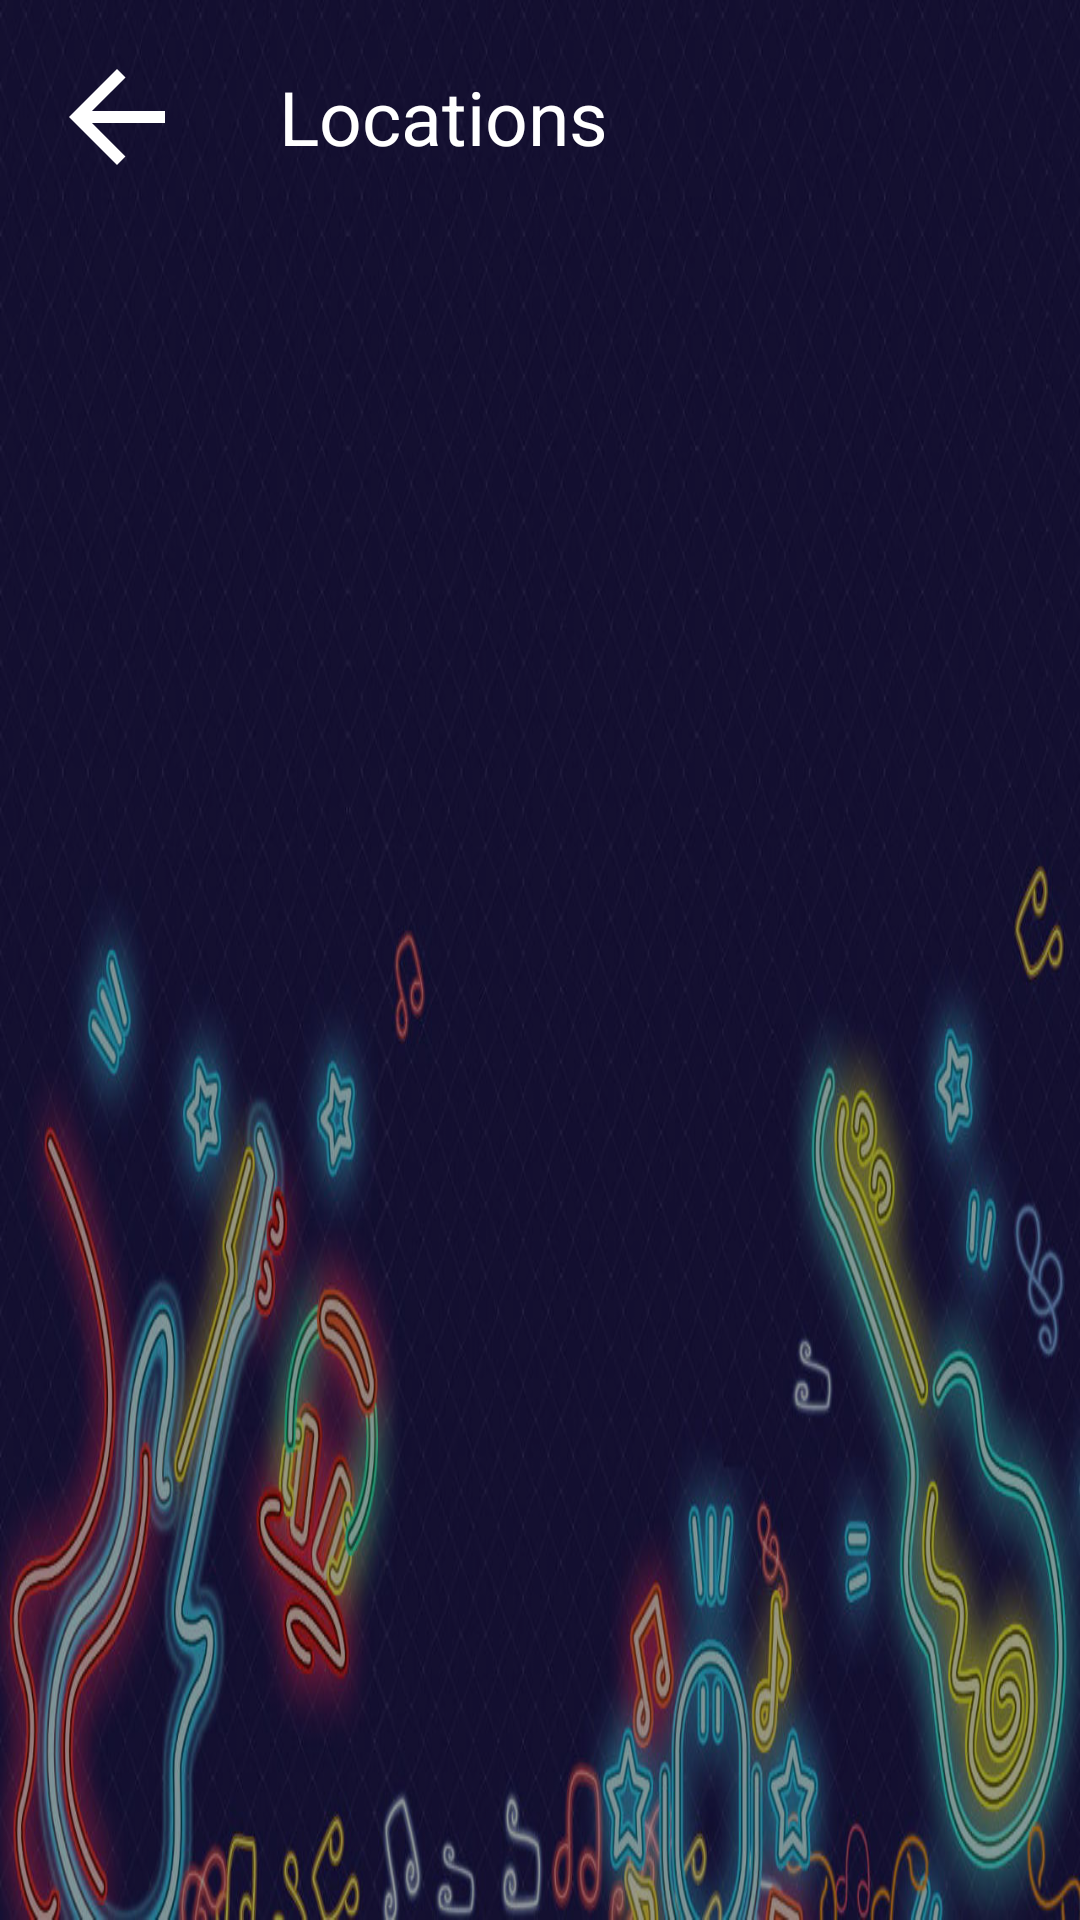

Screen size 1080px x 1920px. Icon name, then its box in pixels as (x1, y1, x2, y2):
arrow: (69, 69, 165, 165)
